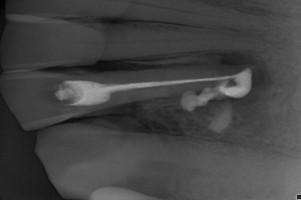Furcation Involvement: (221, 52, 271, 100)
